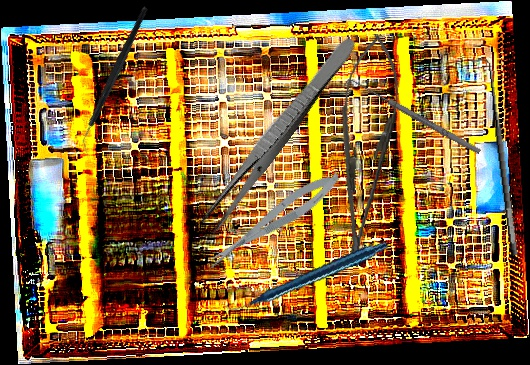Chopper: (41, 5, 190, 154)
Dressing Forceps: (196, 30, 360, 237)
Handpiece: (222, 208, 390, 343)
Hook Surgical: (342, 74, 483, 161), (470, 56, 522, 258)
Micro Scissor: (199, 166, 347, 274)
Needle Holder: (325, 31, 405, 270)
